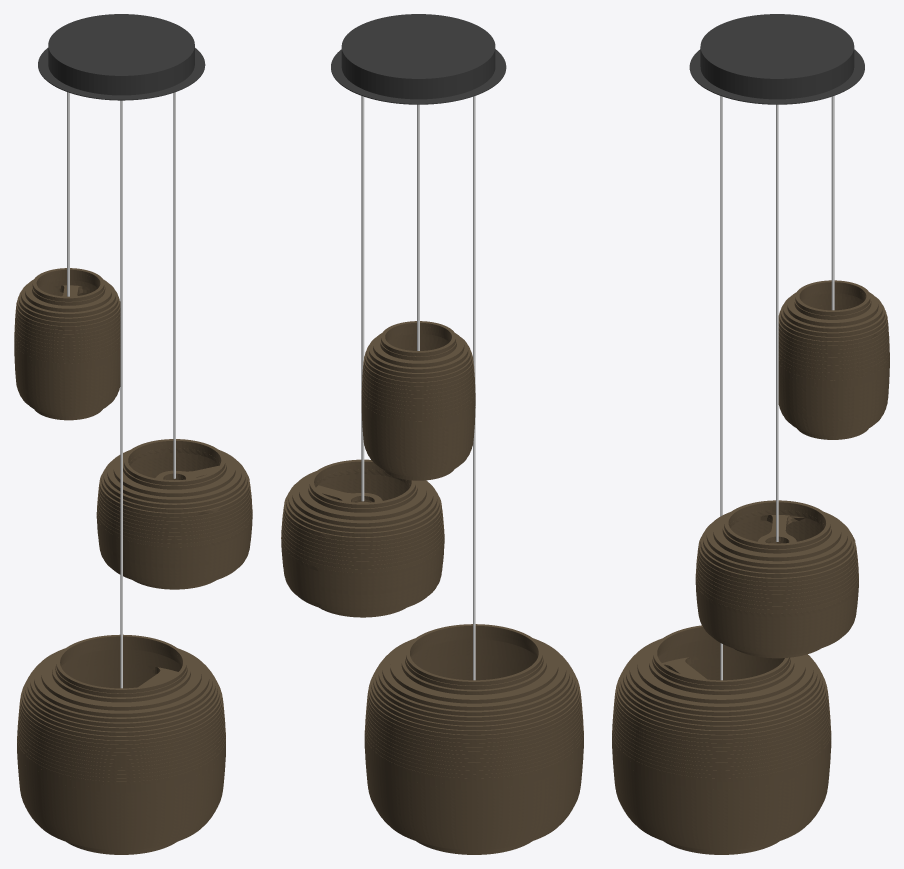
3 renders of one model, left to right at view 1: azimuth 30°, elevation 25°; view 2: azimuth 150°, elevation 25°; view 3: azimuth 270°, elevation 25°, orthographic. The views are drawn at different scales.
Bounding box in the file's own units: 0.4923 × 1.5 × 0.4752.
